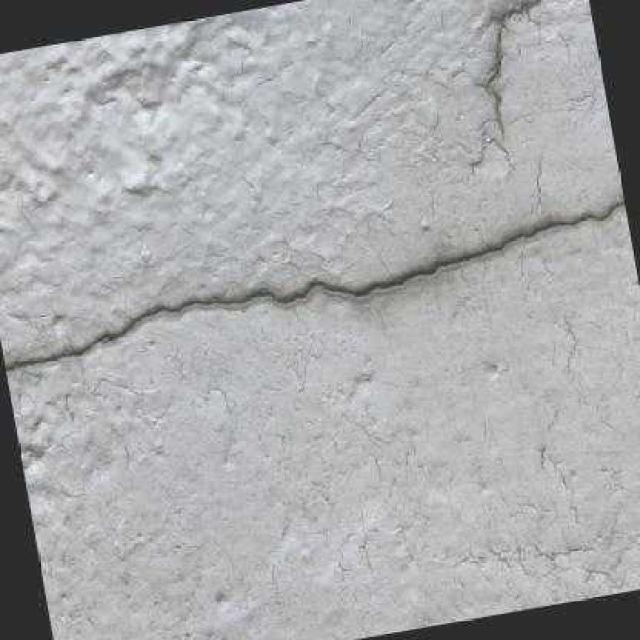D00: (4, 193, 622, 368)
